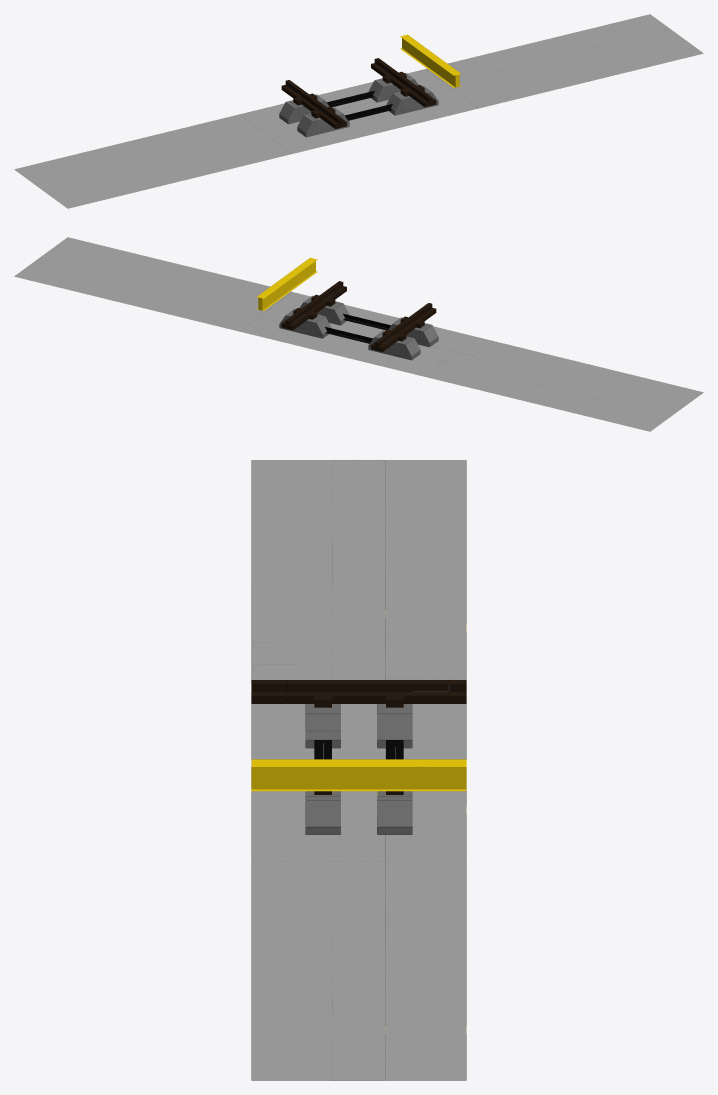
The model's file is athen-metro-rail-2.obj.
3 views of the same model, one above another, from view 1: azimuth 30°, elevation 25°; view 2: azimuth 150°, elevation 25°; view 3: azimuth 270°, elevation 25° (orthographic). The views are drawn at different scales.
Visible parts, largest first — view 1: cube; view 2: cube; view 3: cube.
Part boxes in pixels (x1=…): cube: x1=14, y1=14, x2=703, y2=208; cube: x1=14, y1=237, x2=703, y2=431; cube: x1=251, y1=460, x2=466, y2=1080.
Bounding box in the file's own units: 10.24 × 0.5952 × 1.5.
Materials: 1 (1 with a texture image).
